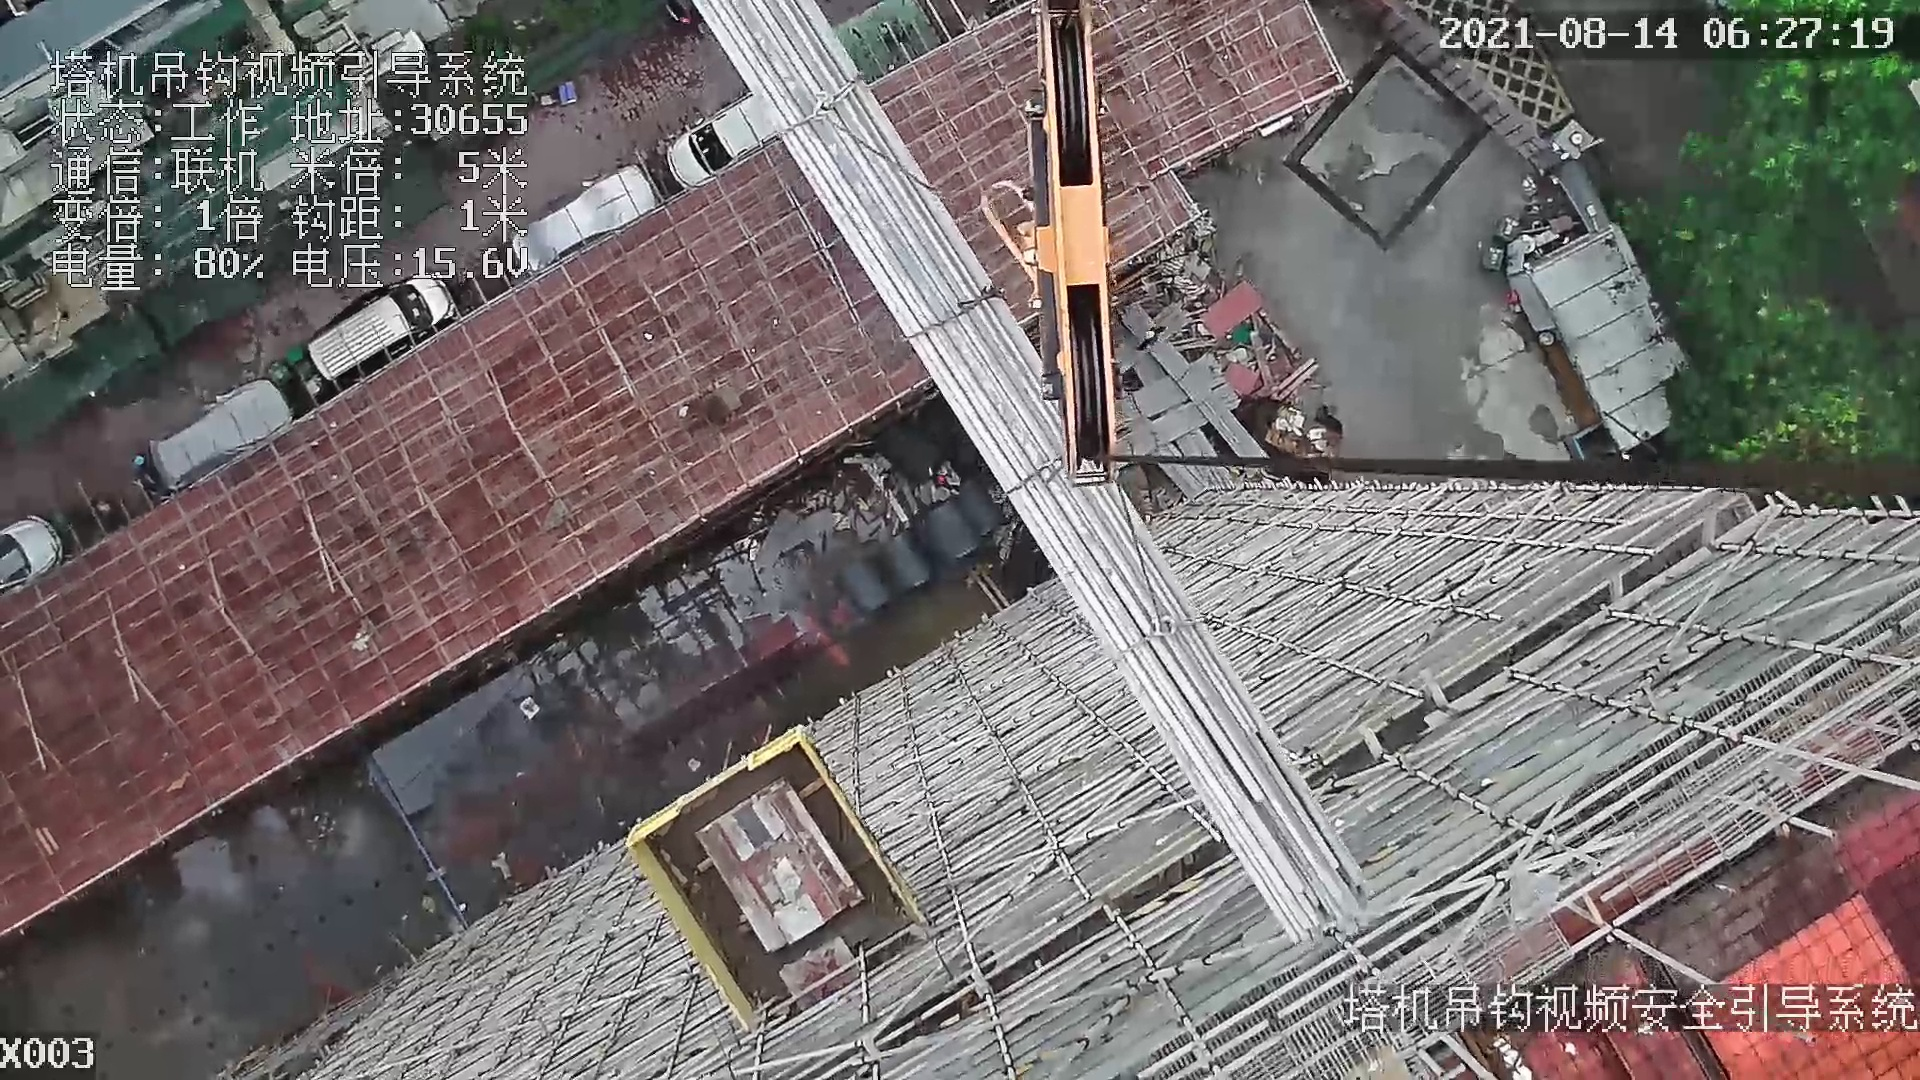hook: (1025, 3, 1129, 488)
